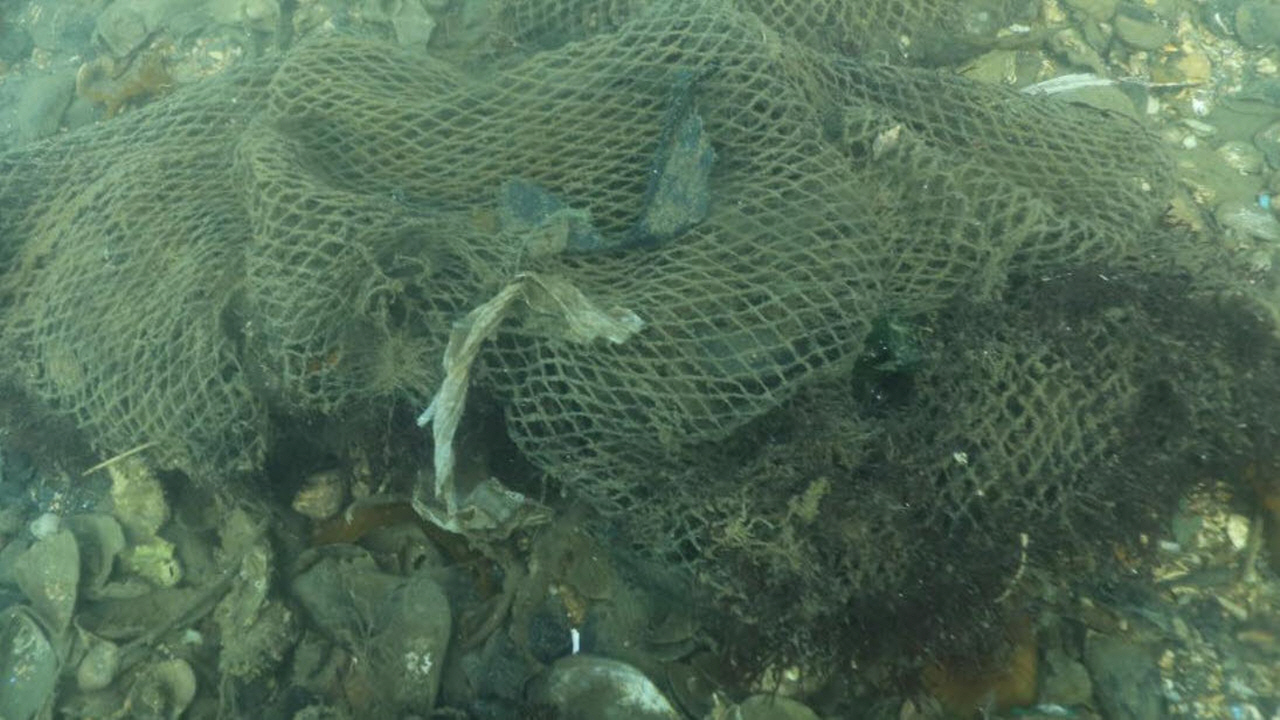fish net: (0, 0, 1173, 600)
